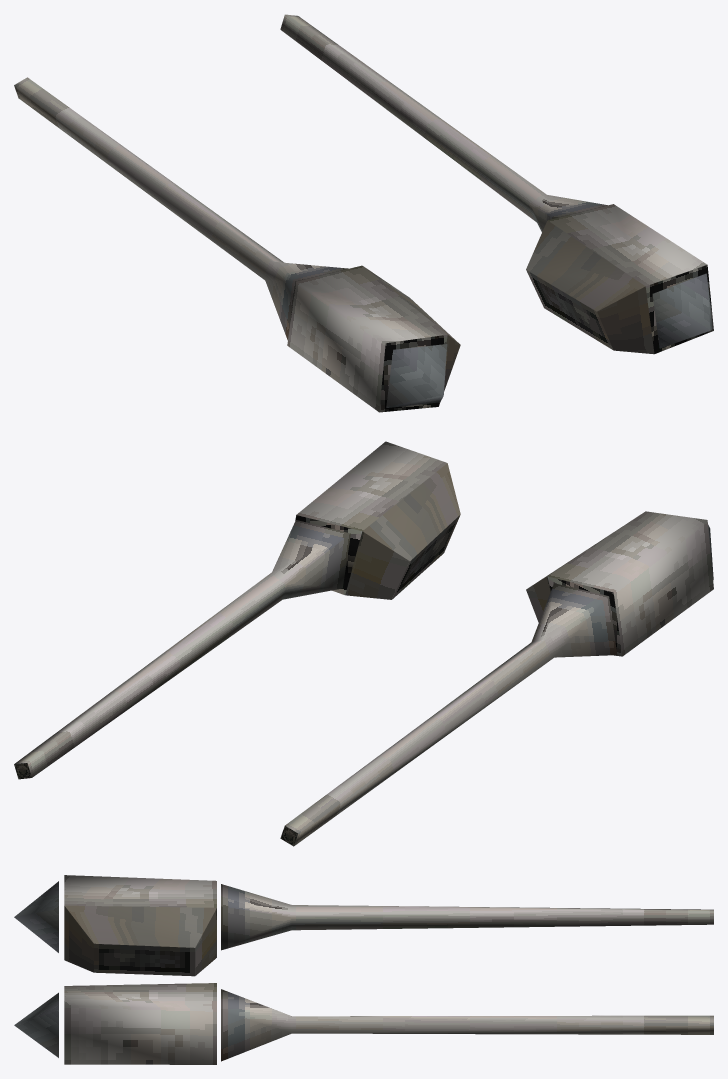
Rendered from hutt_fighter_medium_booster_s02_l3.fbx.
3 renders of one model, top to bottom at view 1: azimuth 30°, elevation 25°; view 2: azimuth 150°, elevation 25°; view 3: azimuth 270°, elevation 25°, orthographic. The views are drawn at different scales.
Visible parts, largest first — view 1: mesh_node; view 2: mesh_node; view 3: mesh_node.
Boxes of the visible parts, left/top/right/bottom form: mesh_node: left=14, top=14, right=713, bottom=412; mesh_node: left=14, top=441, right=713, bottom=846; mesh_node: left=14, top=875, right=713, bottom=1064.
Bounding box in the file's own units: 4.09 × 0.9354 × 8.88.
